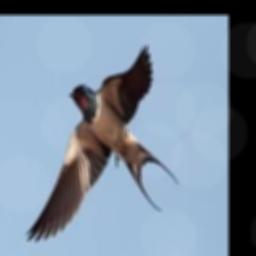Swallow: (26, 43, 177, 241)
